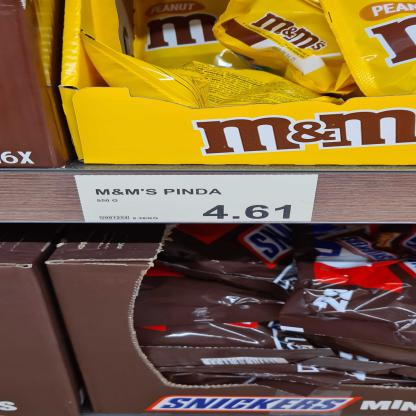prtg: (75, 175, 320, 224)
